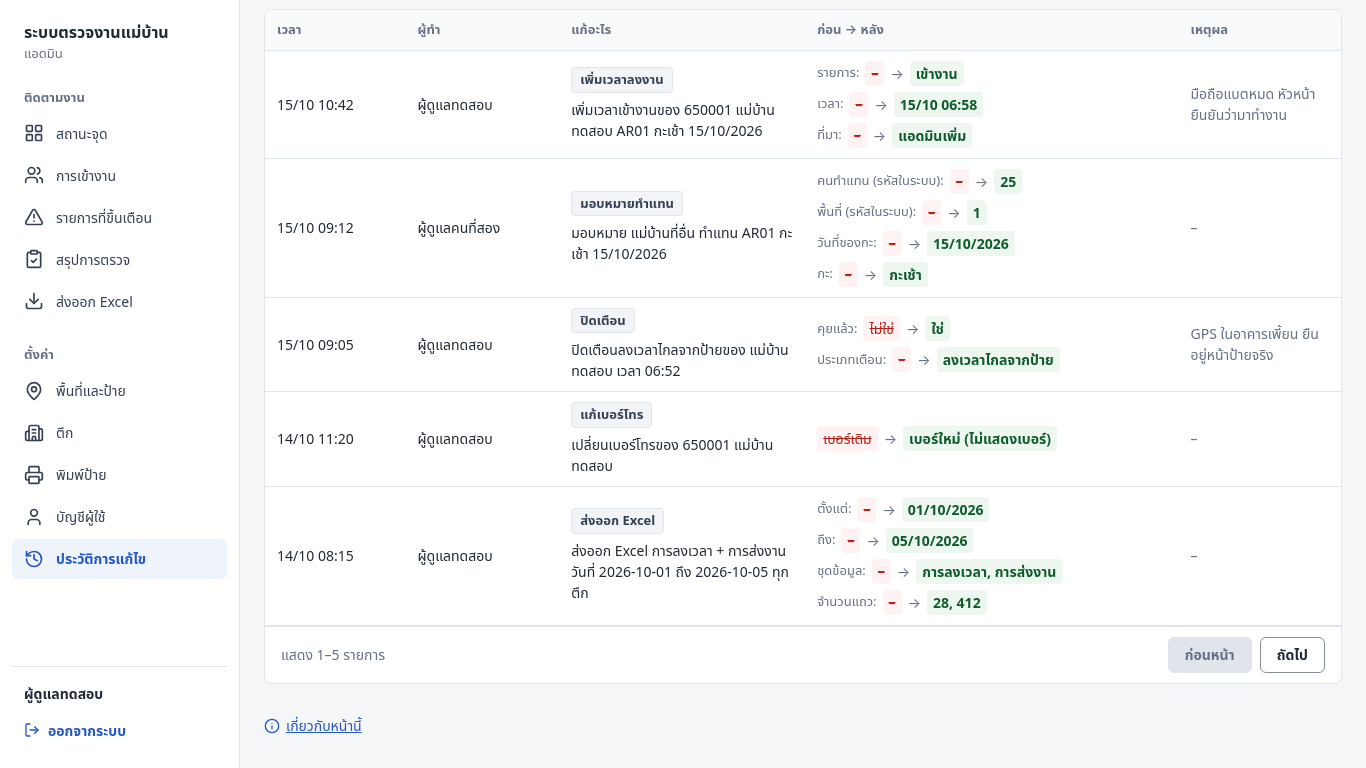
Test: HistoryPage (D9, facility-0057) › retains the visible page on a failed next fetch, then retries the same cursor
(page scrolled)
Expected: the text "แสดง 1–5 รายการ" is shown, [281,644,385,665]
Click the button "ถัดไป": (1292, 655) [1260,637,1325,673]
(page scrolled)
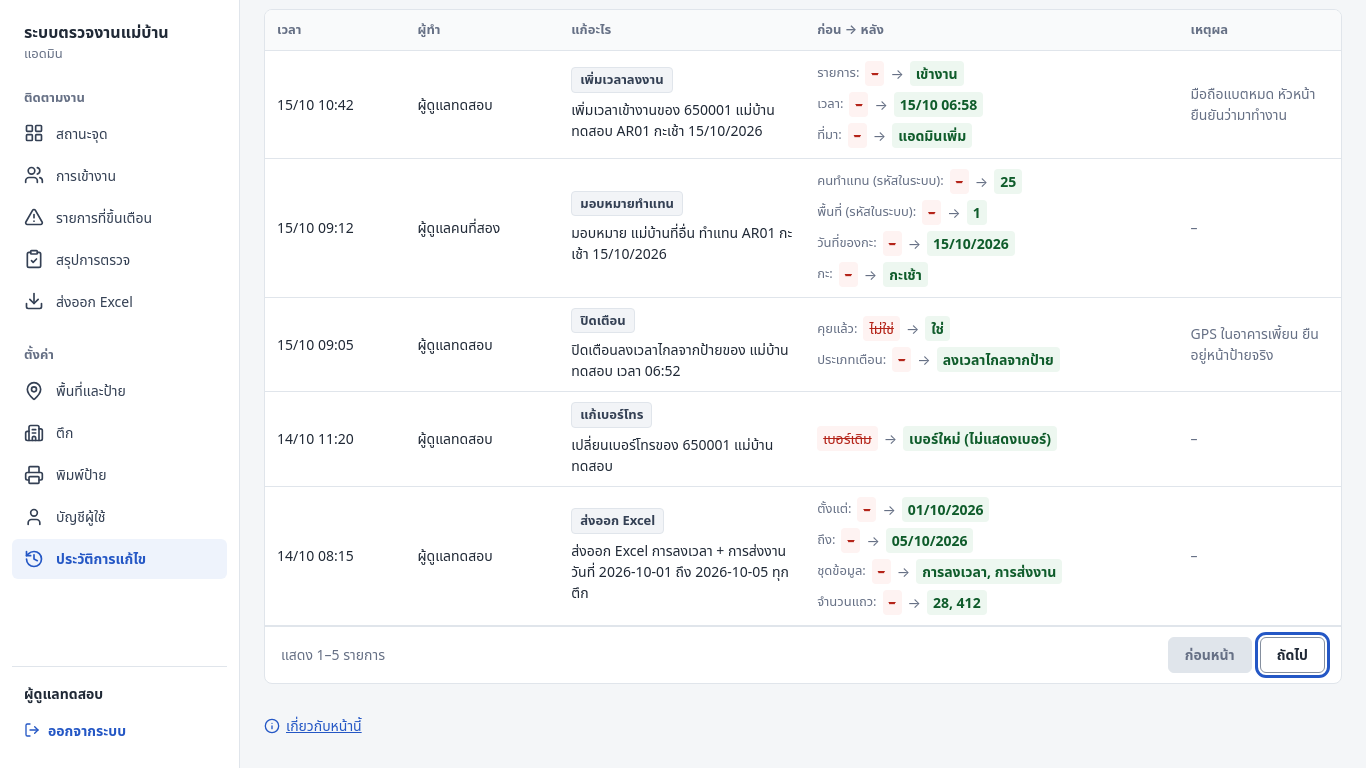
Expected: the text "แสดง 1–5 รายการ" is shown, [281,644,385,665]
Click the button "ถัดไป": (1292, 655) [1260,637,1325,673]
(page scrolled)
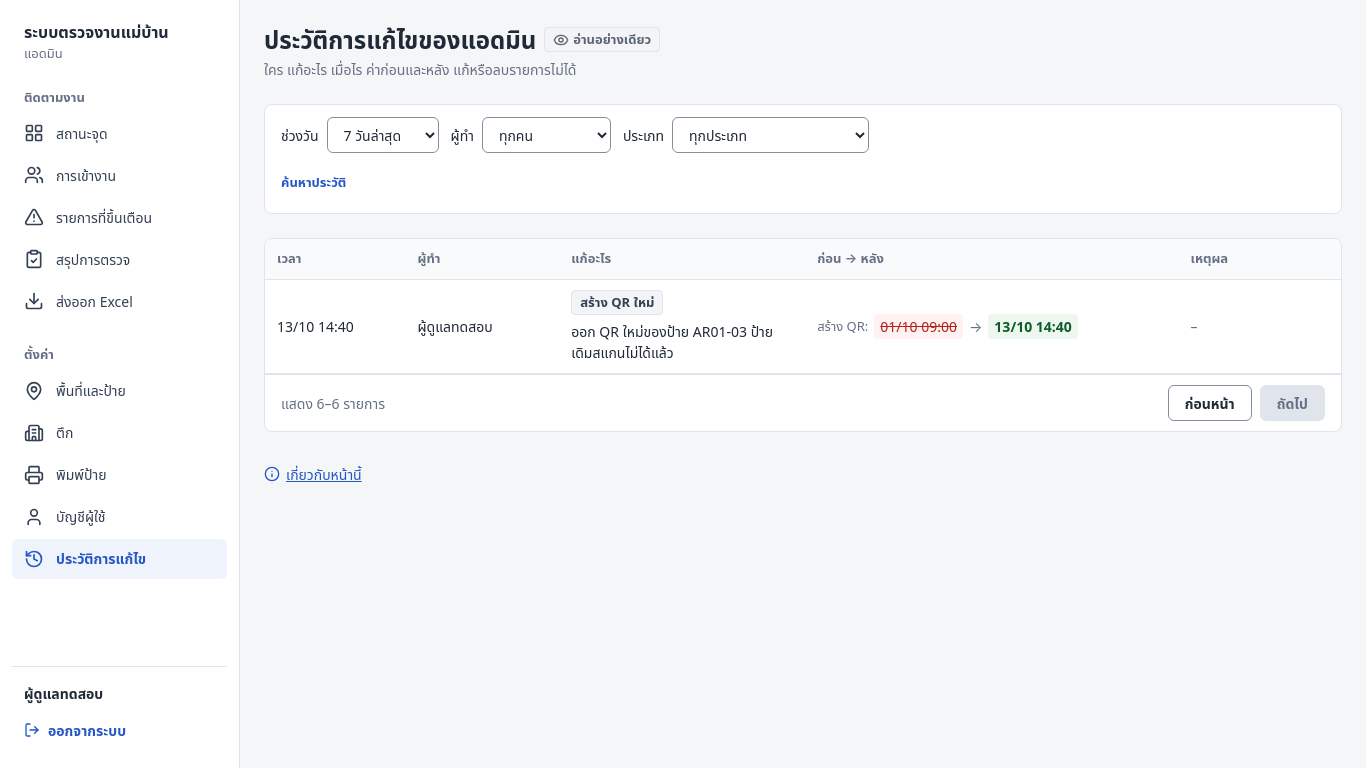
Expected: the text "แสดง 6–6 รายการ" is shown, [281,393,385,414]
